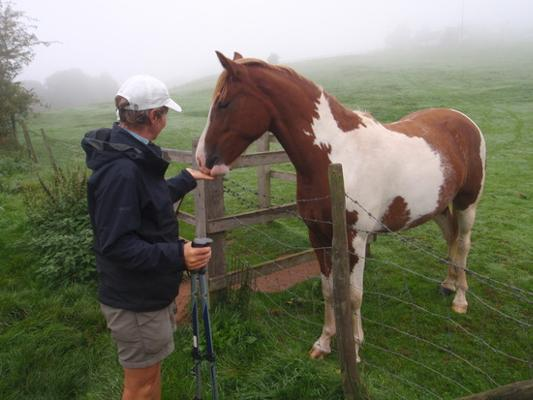person: (81, 73, 211, 400)
